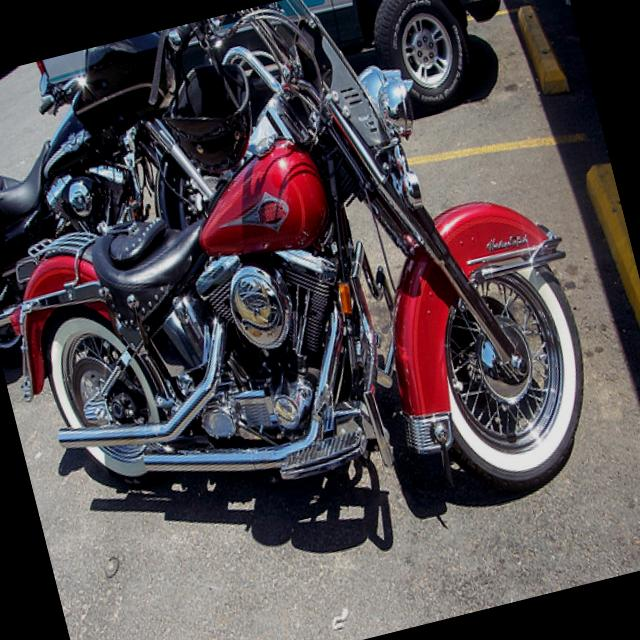Vehicle: (0, 0, 613, 598), (18, 0, 535, 207), (0, 28, 236, 364)
